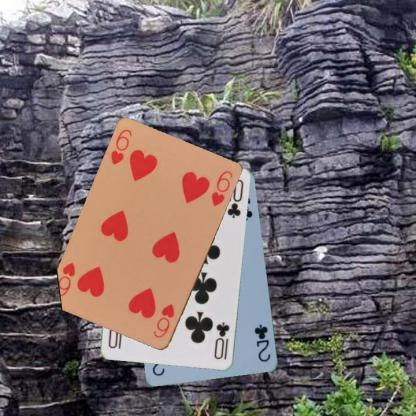10c: (212, 320, 231, 361)
2c: (252, 322, 272, 363)
6h: (108, 127, 134, 166), (151, 301, 176, 340)
